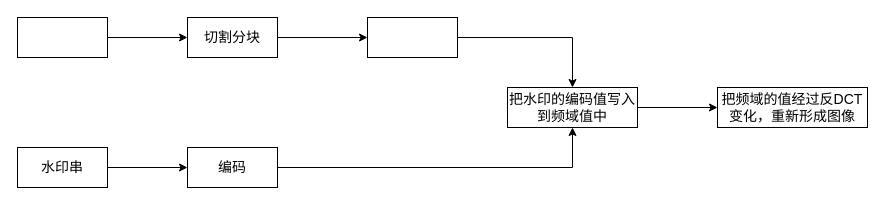
Some shapes in this 885 by 205 pixel diagram are drawn without their labels. The centre of each missing label's shape, as x and y in pixels:
"DCT变换" goes at (412,37).
"图像" goes at (62,37).
